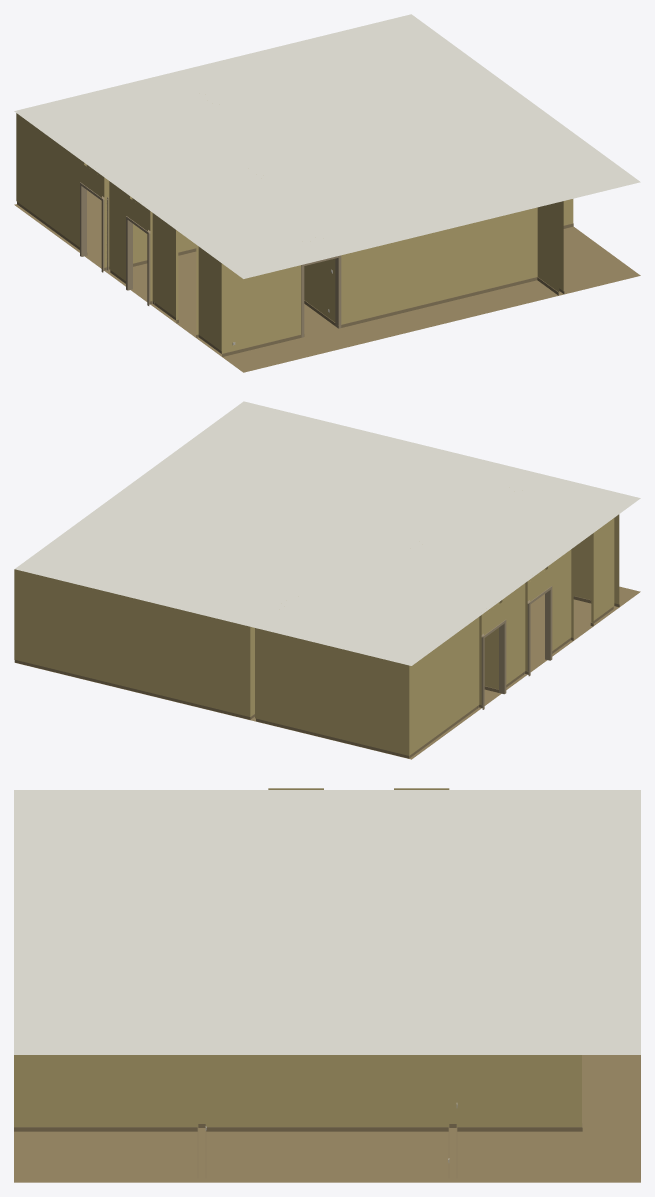
The model's file is chunk_2_0.glb.
The picture shows the model from 3 angles, top to bottom: view 1: azimuth 30°, elevation 25°; view 2: azimuth 150°, elevation 25°; view 3: azimuth 270°, elevation 25°; orthographic projection. The views are drawn at different scales.
Parts seen in each view (by area): view 1: chunk_2_0; view 2: chunk_2_0; view 3: chunk_2_0.
Boxes of the visible parts, <box> form: chunk_2_0: <box>14,14,640,372</box>; chunk_2_0: <box>14,401,640,759</box>; chunk_2_0: <box>14,788,640,1182</box>.
Size of the model in its own units: 12.1 by 2.7 by 12.
